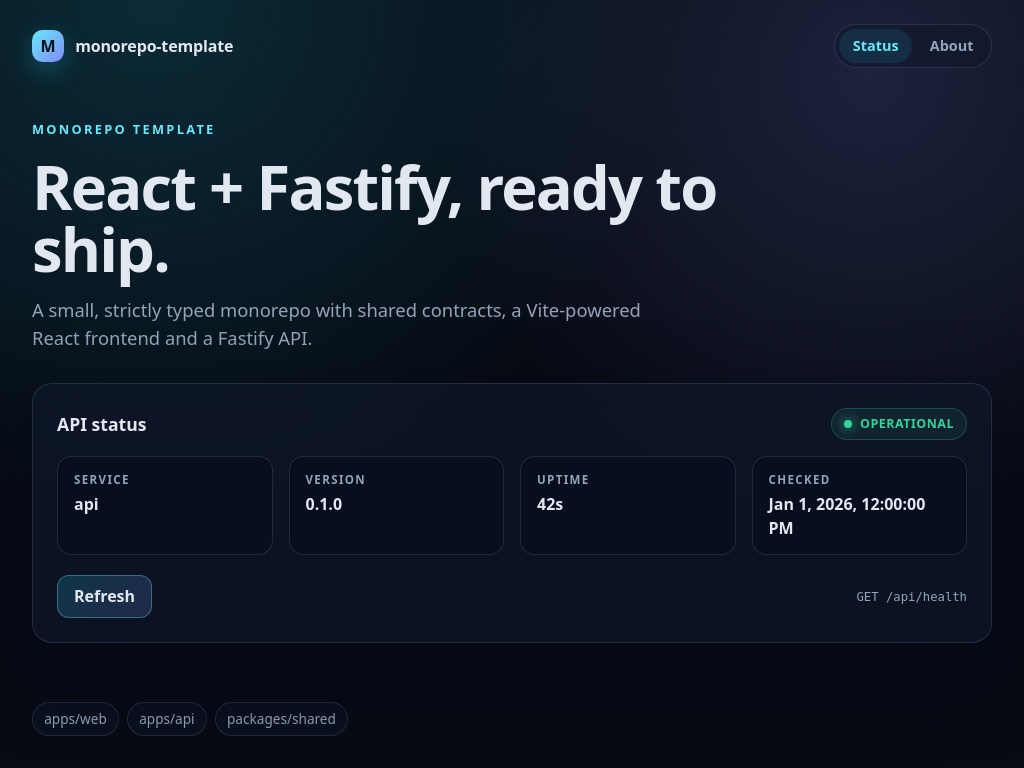
Test: App › refreshes the health status on demand
Expected: the text "Operational" is shown, [860, 415, 954, 432]
Click the button "Refresh" at (105, 596), box [57, 575, 152, 618]
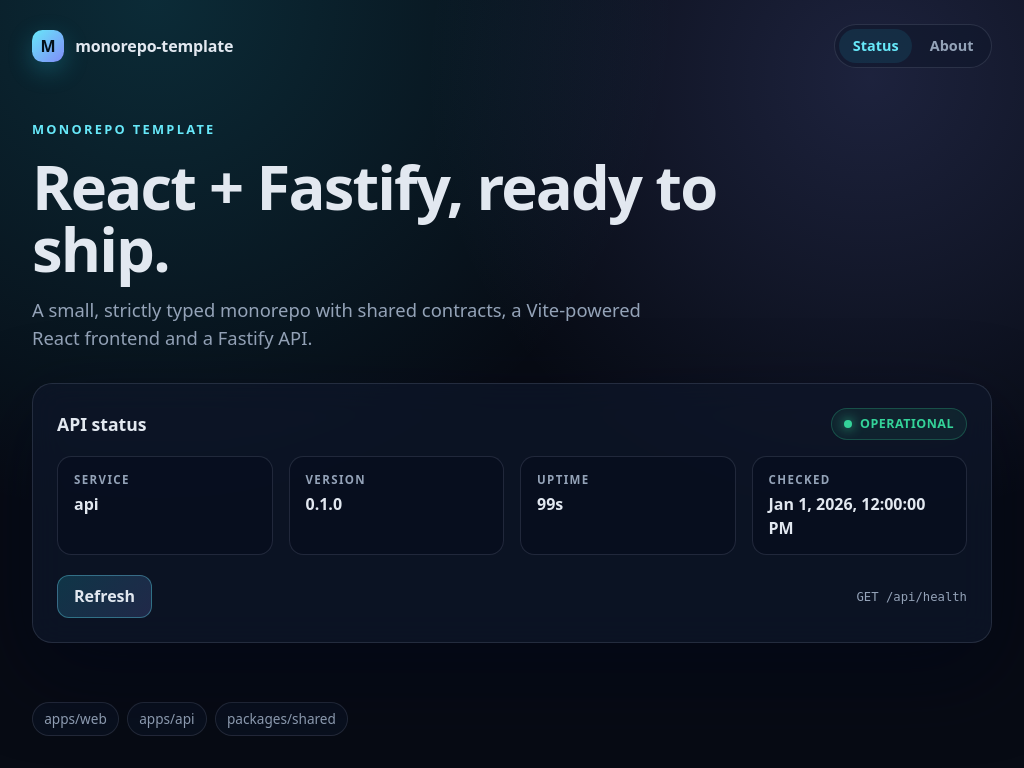
Expected: the text "99s" is shown, [537, 493, 563, 515]
